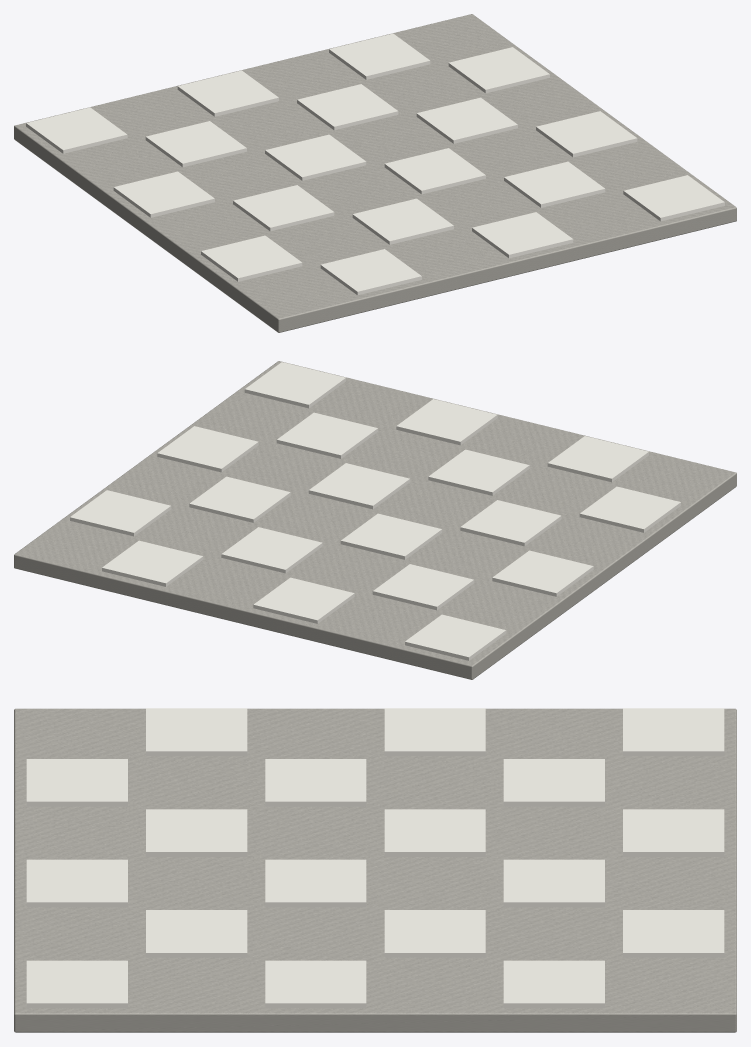
File: hero-shooter-harbour-payload-ground-tile-cobble-3f0dd416__27719.glb
3 renders of one model, top to bottom at view 1: azimuth 30°, elevation 25°; view 2: azimuth 150°, elevation 25°; view 3: azimuth 270°, elevation 25°, orthographic. The views are drawn at different scales.
Parts seen in each view (by area): view 1: ground-tile-cobble; view 2: ground-tile-cobble; view 3: ground-tile-cobble.
Part boxes in pixels (<box>): ground-tile-cobble: <box>14,14,736,332</box>; ground-tile-cobble: <box>14,361,736,679</box>; ground-tile-cobble: <box>14,708,736,1032</box>.
Size of the model in its own units: 4 by 0.1501 by 4.
Materials: 2 (1 with a texture image).
